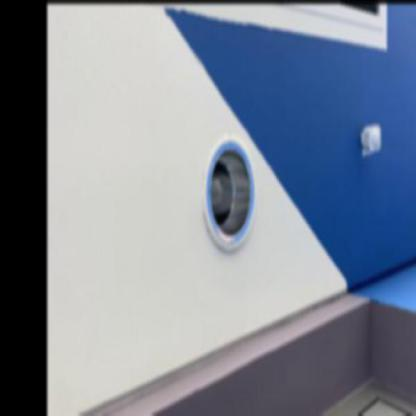light_off: (192, 111, 257, 261)
